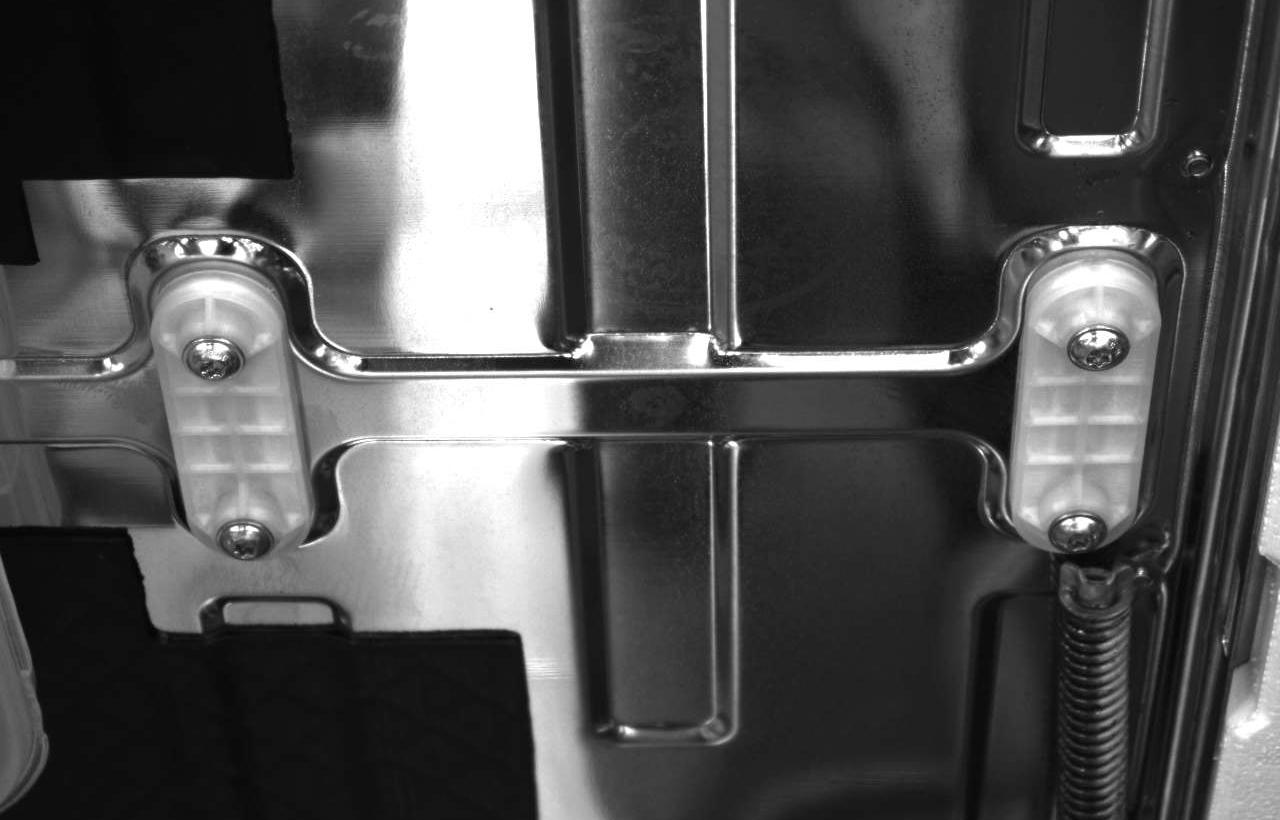vida-ok: (177, 325, 249, 392), (1067, 317, 1134, 384), (209, 505, 274, 564), (1046, 495, 1111, 554)
